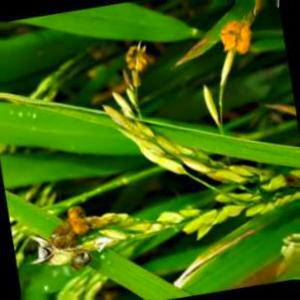Leaf_Scald: (218, 19, 250, 57), (62, 204, 86, 238)
